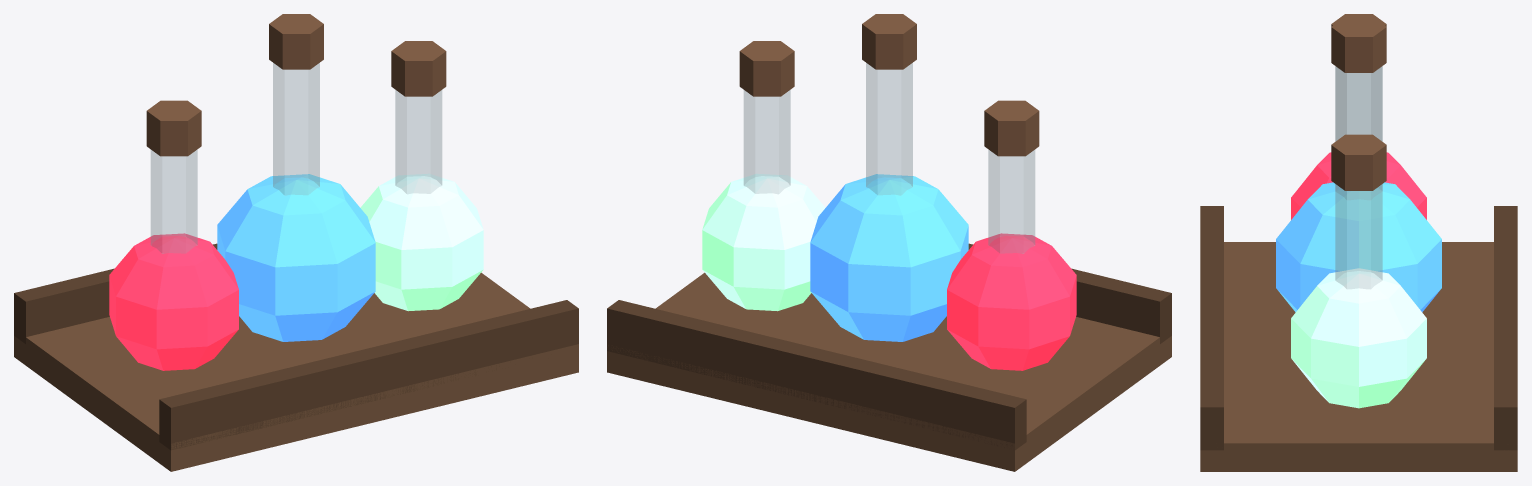
File: std_potion_tray.glb
The picture shows the model from 3 angles, left to right: view 1: azimuth 30°, elevation 25°; view 2: azimuth 150°, elevation 25°; view 3: azimuth 270°, elevation 25°; orthographic projection.
Visible parts, largest first — view 1: std_potion_tray; view 2: std_potion_tray; view 3: std_potion_tray.
Boxes of the visible parts, x1,y1,x2,y2 form: std_potion_tray: (14, 14, 578, 471); std_potion_tray: (607, 14, 1171, 471); std_potion_tray: (1200, 14, 1517, 471).
Size of the model in its own units: 0.3 by 0.2395 by 0.2.
